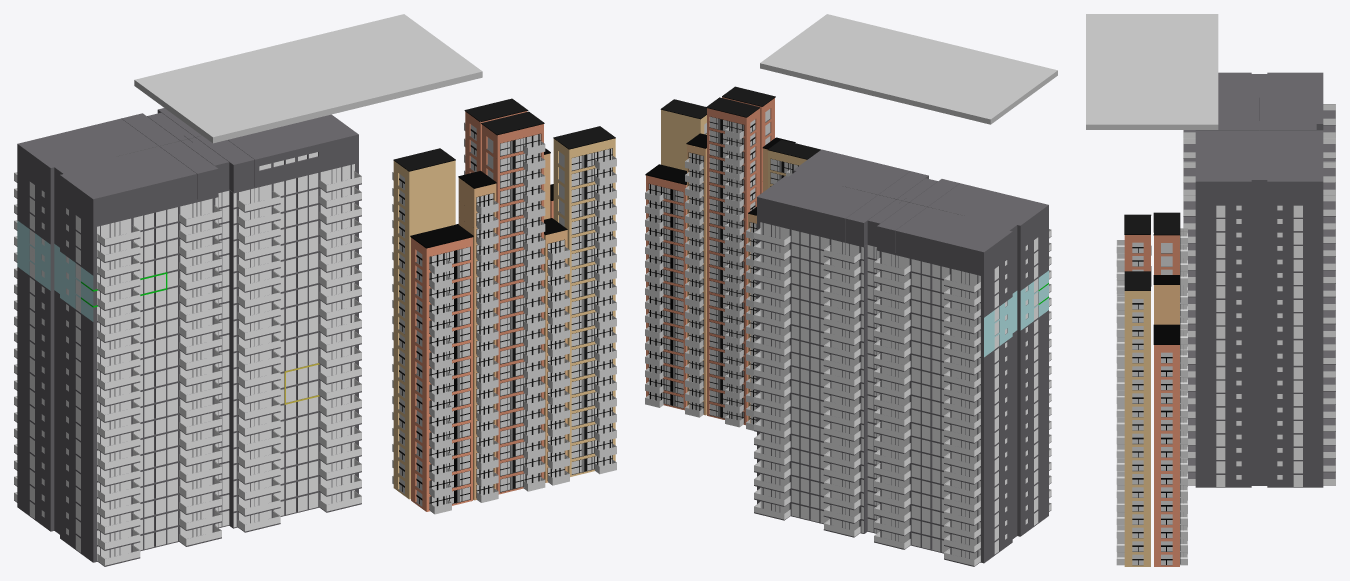
Rendered from screen2Test.glb.
3 renders of one model, left to right at view 1: azimuth 30°, elevation 25°; view 2: azimuth 150°, elevation 25°; view 3: azimuth 270°, elevation 25°, orthographic. The views are drawn at different scales.
Visible parts, largest first — view 1: floor1, module1.003, Plane; view 2: floor1, module1.003, Plane; view 3: floor1, module1.003, Plane.
Part boxes in pixels (x1,y1,x2,y2): floor1: (14,108,361,566); module1.003: (392,98,616,514); Plane: (134,14,482,143); floor1: (754,149,1051,566); module1.003: (645,86,820,430); Plane: (760,14,1057,124); floor1: (1183,72,1335,487); module1.003: (1116,212,1187,566); Plane: (1086,14,1218,129).
Size of the model in its own units: 62.91 by 57.5 by 33.63.
